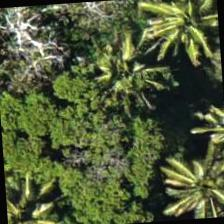Kelapa_Sawit: (60, 25, 156, 121), (127, 0, 221, 78), (162, 149, 223, 220)
